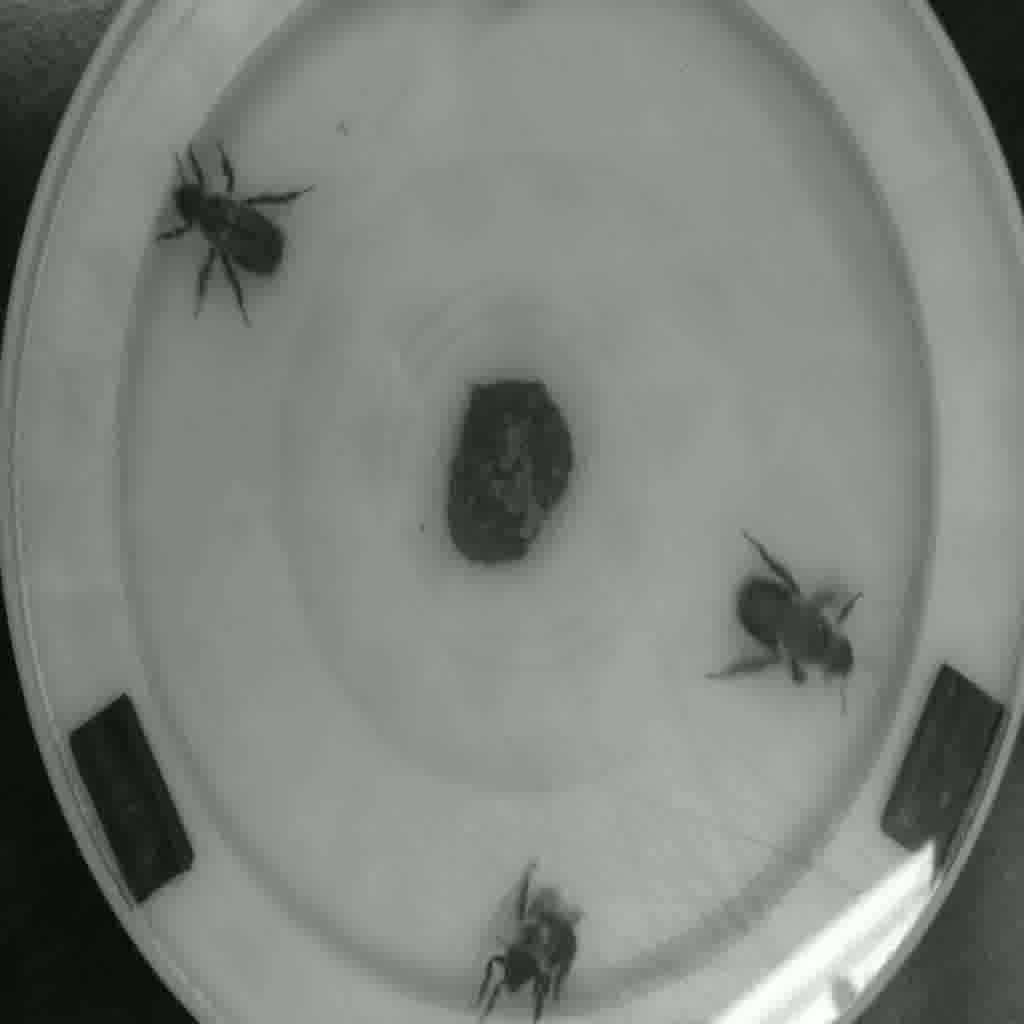bee: (150, 149, 303, 290), (475, 882, 593, 1015), (735, 570, 854, 697)
